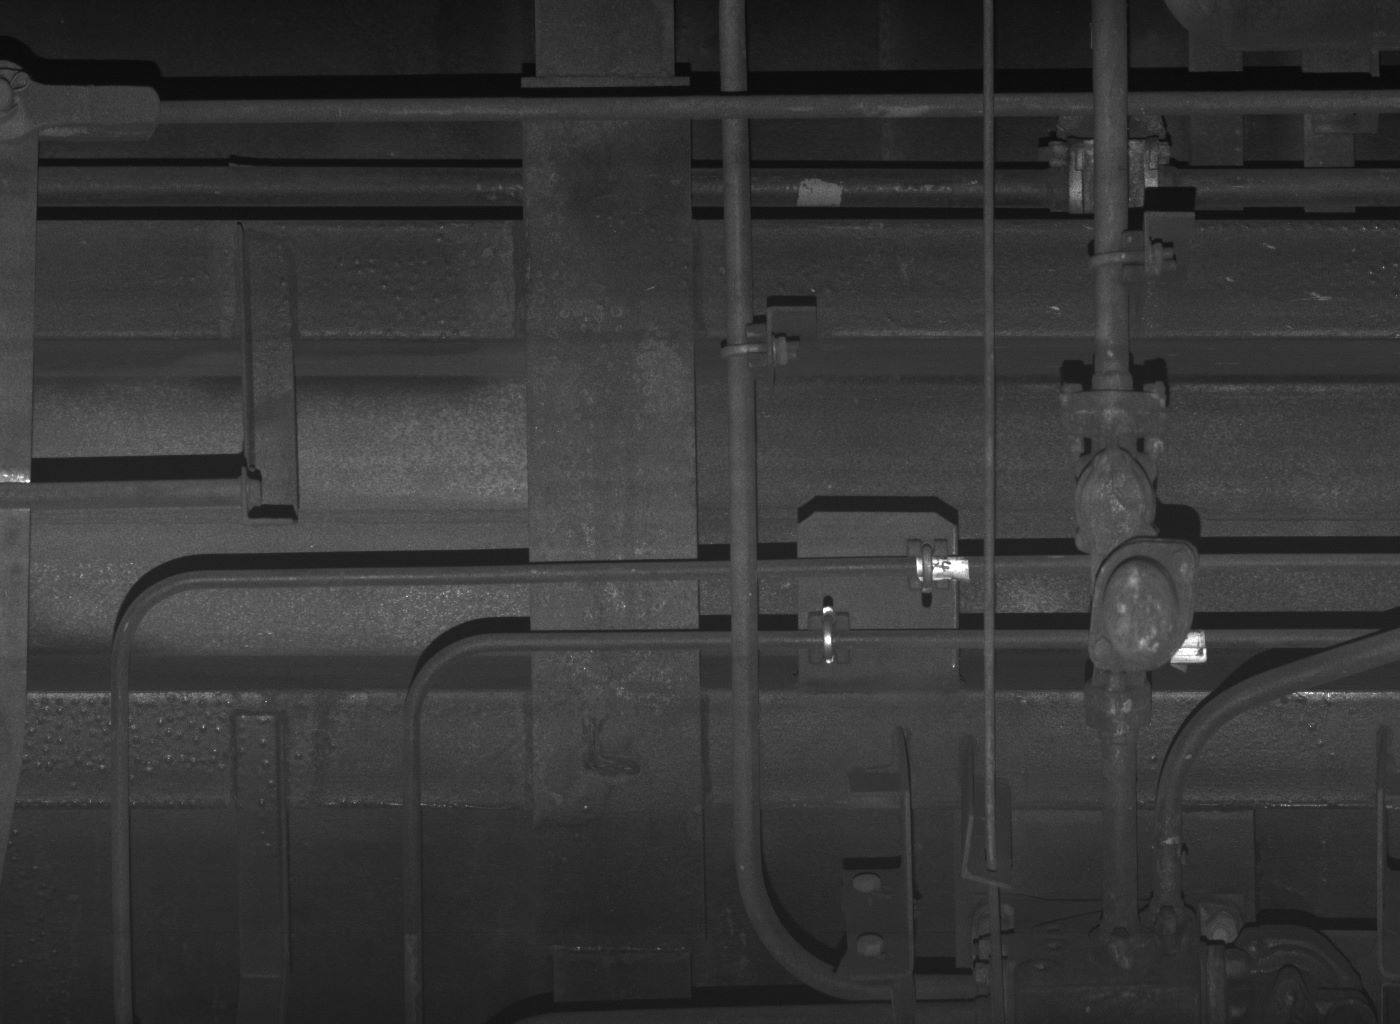normal: (1076, 451, 1162, 554)
